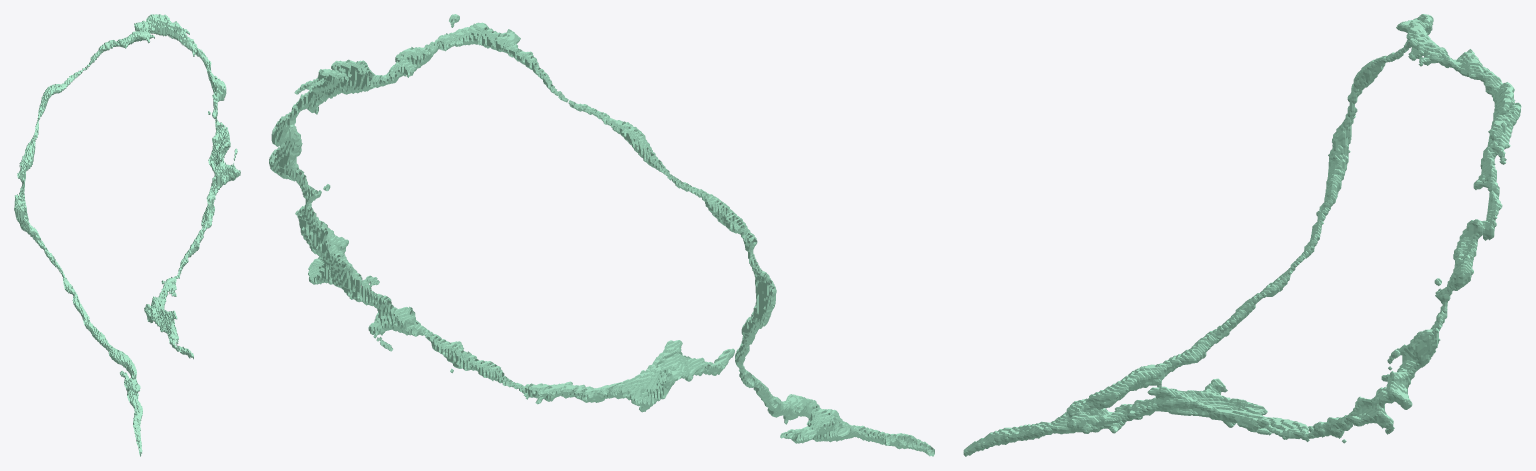
File: SVV_AIBL.gltf
3 renders of one model, left to right at view 1: azimuth 30°, elevation 25°; view 2: azimuth 150°, elevation 25°; view 3: azimuth 270°, elevation 25°, orthographic. The views are drawn at different scales.
Visible parts, largest first — view 1: AIBL; view 2: AIBL; view 3: AIBL.
Part boxes in pixels (left/top/right/bottom): AIBL: left=14, top=14, right=240, bottom=456; AIBL: left=269, top=14, right=934, bottom=456; AIBL: left=963, top=14, right=1521, bottom=456.
Bounding box in the file's own units: 138408 × 163581 × 154071.
